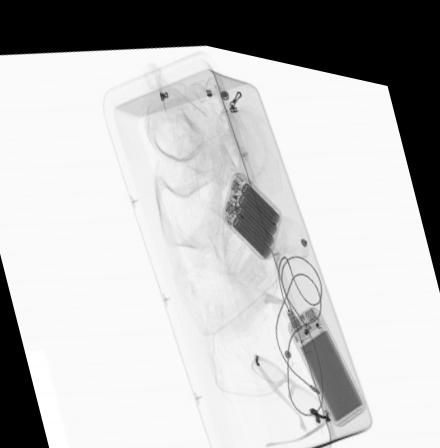Powerbank: (219, 151, 285, 251)
